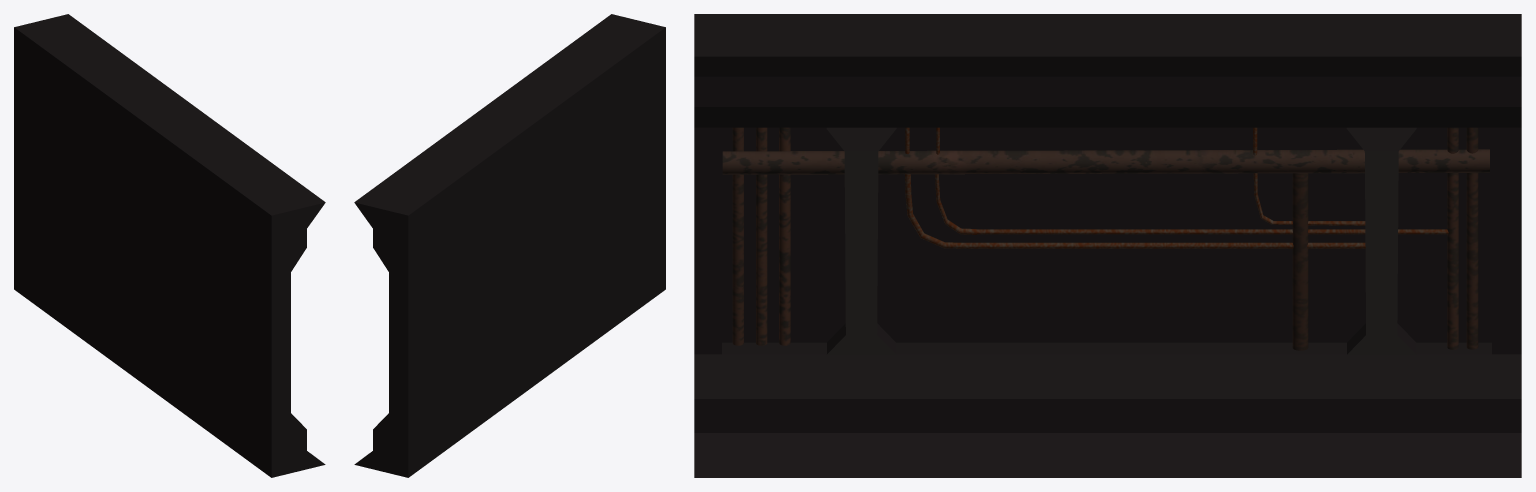
The model's file is wallpanel2.fbx.
3 views of the same model, side by side, from view 1: azimuth 30°, elevation 25°; view 2: azimuth 150°, elevation 25°; view 3: azimuth 270°, elevation 25° (orthographic). The views are drawn at different scales.
Visible parts, largest first — view 1: pCube1; view 2: pCube1; view 3: pCube1, pCylinder1, pCube2, pCube3, pCylinder9, pCylinder6, pCylinder10, pCylinder8, pCylinder11, pCylinder4, pCylinder2, pCylinder3.
Part boxes in pixels (x1,y1,x2,y2): pCube1: (14, 14, 325, 477); pCube1: (354, 14, 665, 477); pCube1: (694, 14, 1521, 477); pCylinder1: (722, 149, 1489, 174); pCube2: (826, 127, 896, 354); pCube3: (1346, 127, 1416, 354); pCylinder9: (1292, 173, 1308, 350); pCylinder6: (966, 242, 1365, 248); pCylinder10: (1466, 127, 1478, 349); pCylinder8: (976, 229, 1448, 234); pCylinder11: (1447, 127, 1458, 349); pCylinder4: (779, 127, 790, 345); pCylinder2: (732, 127, 743, 345); pCylinder3: (756, 127, 767, 345).
Bounding box in the file's own units: 3.31 × 15.29 × 27.19.
